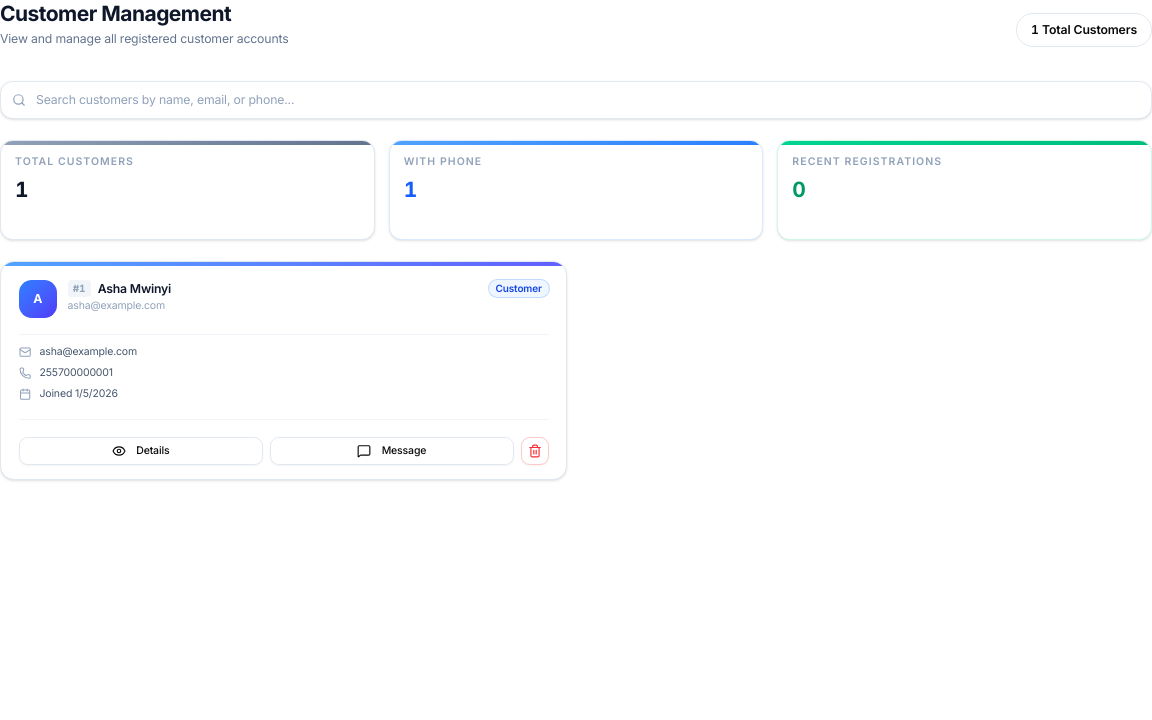
Test: CustomerManagementTab › details dialog › closes via the Close button
The width and height of the screenshot is (1152, 720).
Expected: the heading "Asha Mwinyi" is shown, [98, 281, 171, 296]
Click the button "Details": x=141, y=451 [18, 437, 263, 465]
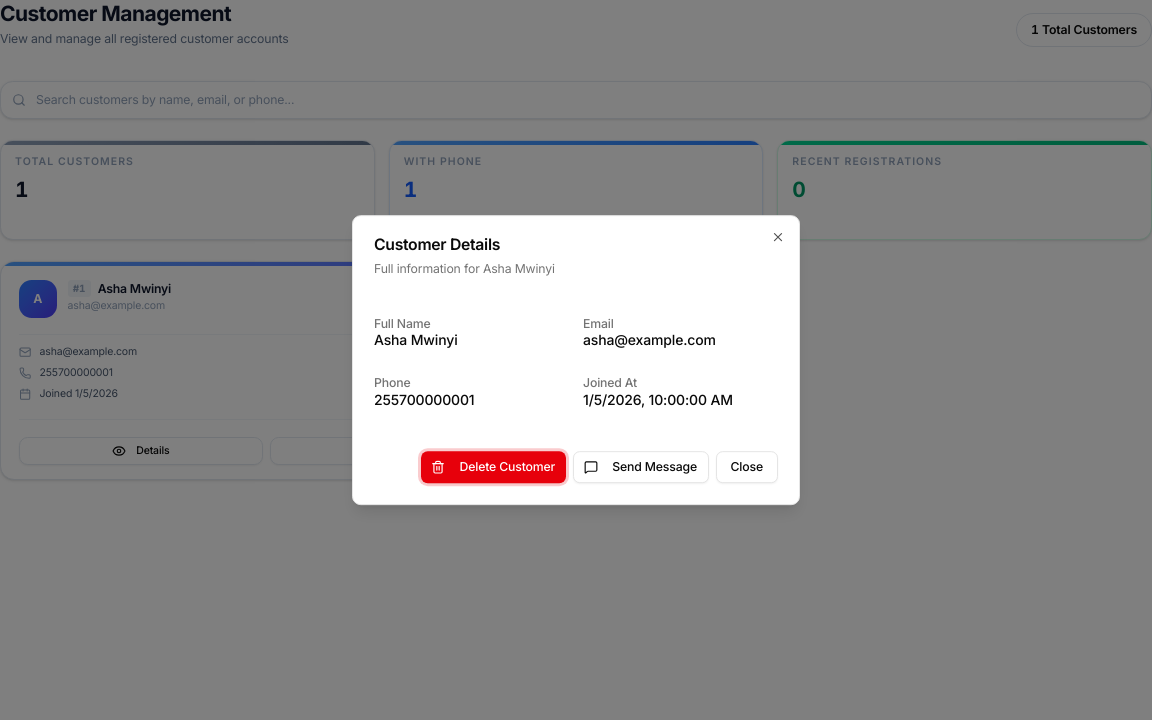
Click the button "Close": x=747, y=467 [716, 451, 778, 483]
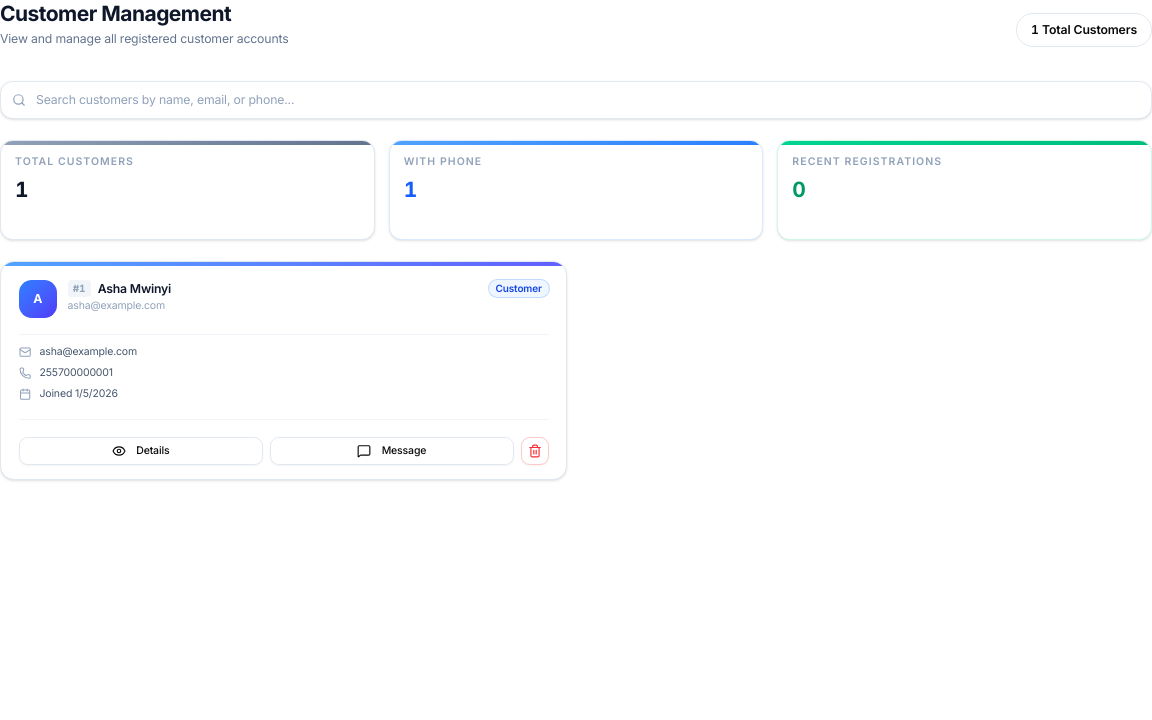
Expected: the dialog is gone
